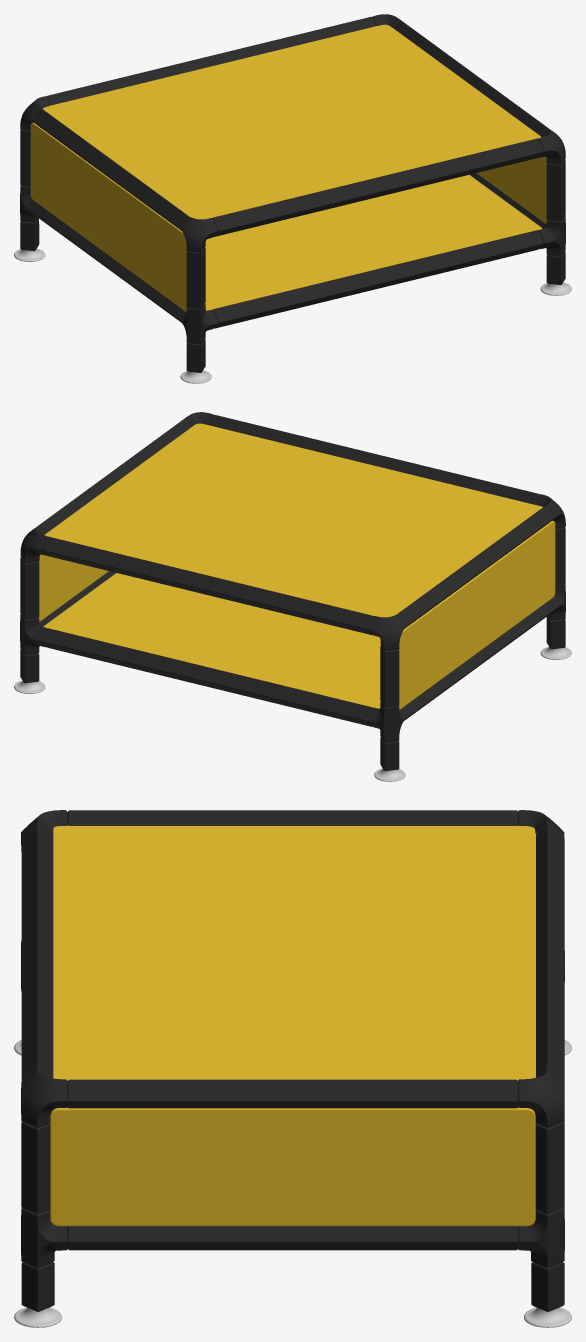
3 views of the same model, one above another, from view 1: azimuth 30°, elevation 25°; view 2: azimuth 150°, elevation 25°; view 3: azimuth 270°, elevation 25° (orthographic). The views are drawn at different scales.
Parts seen in each view (by area): view 1: 479x374x79; view 2: 479x374x79; view 3: 479x374x79.
Part boxes in pixels (<box>): 479x374x79: <box>14,14,571,383</box>; 479x374x79: <box>14,412,571,781</box>; 479x374x79: <box>14,810,571,1327</box>.
Bounding box in the file's own units: 0.5689 × 0.2184 × 0.4633.
